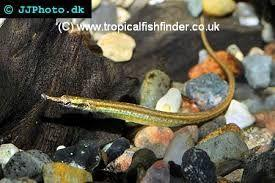Long-Snouted Pipefish: (35, 13, 238, 128)
